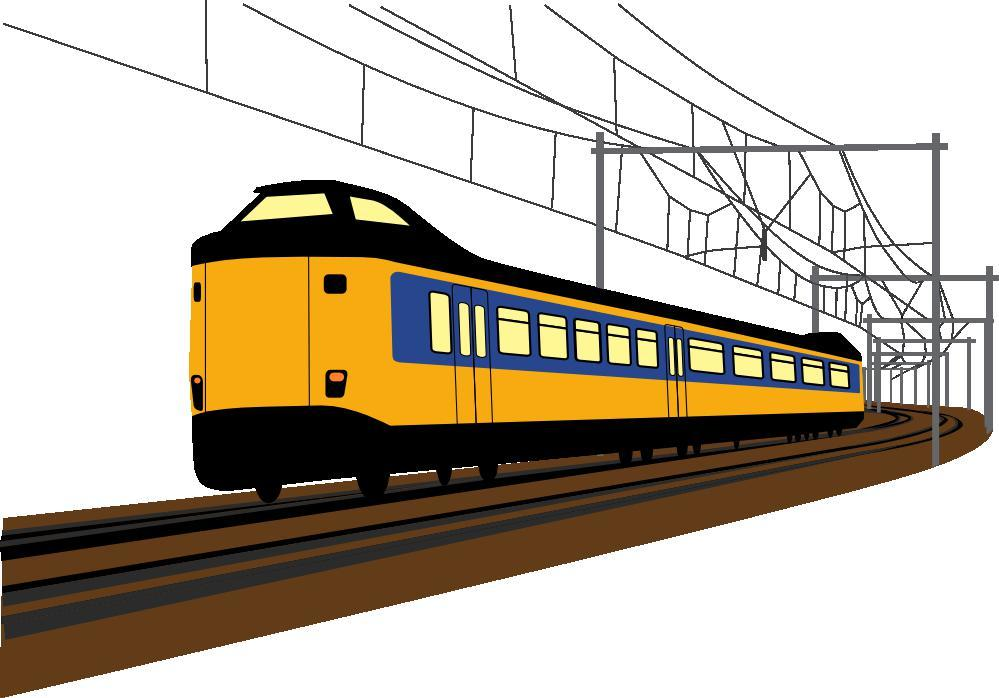train: (147, 163, 876, 523)
